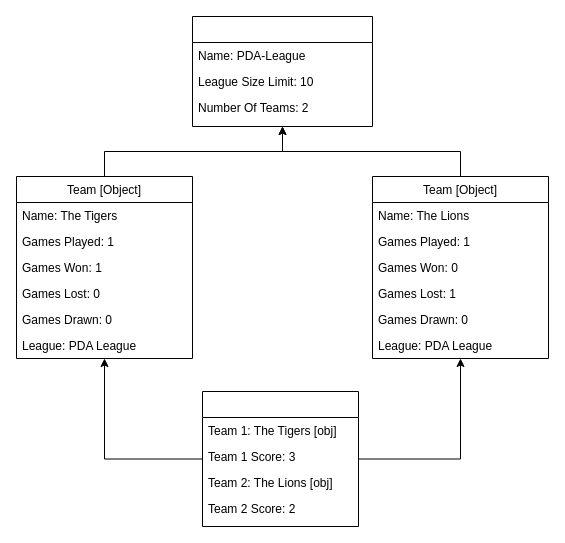
Some shapes in this 565 by 543 pixel diagram are drawn without their labels. Each missing label, with the box of its shape:
League [Object]: (192, 16, 372, 126)
Result [Object]: (202, 390, 358, 526)
